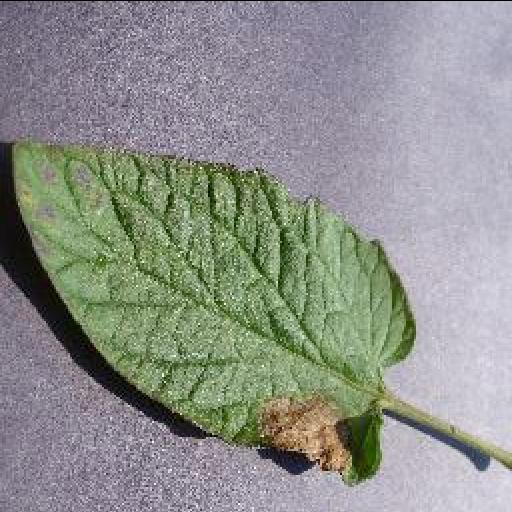disease_tomato: (8, 140, 418, 486)
